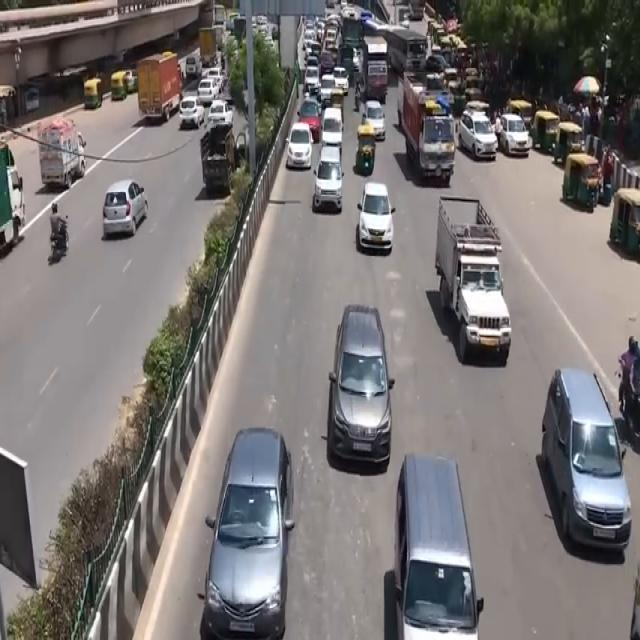BUS: (359, 36, 388, 104)
CMT: (439, 195, 514, 363)
MOTORCYCLE: (53, 220, 70, 264)
SED: (206, 423, 292, 640), (326, 303, 397, 476), (103, 184, 144, 238)
TRUCK: (402, 86, 456, 188), (136, 53, 181, 125)
